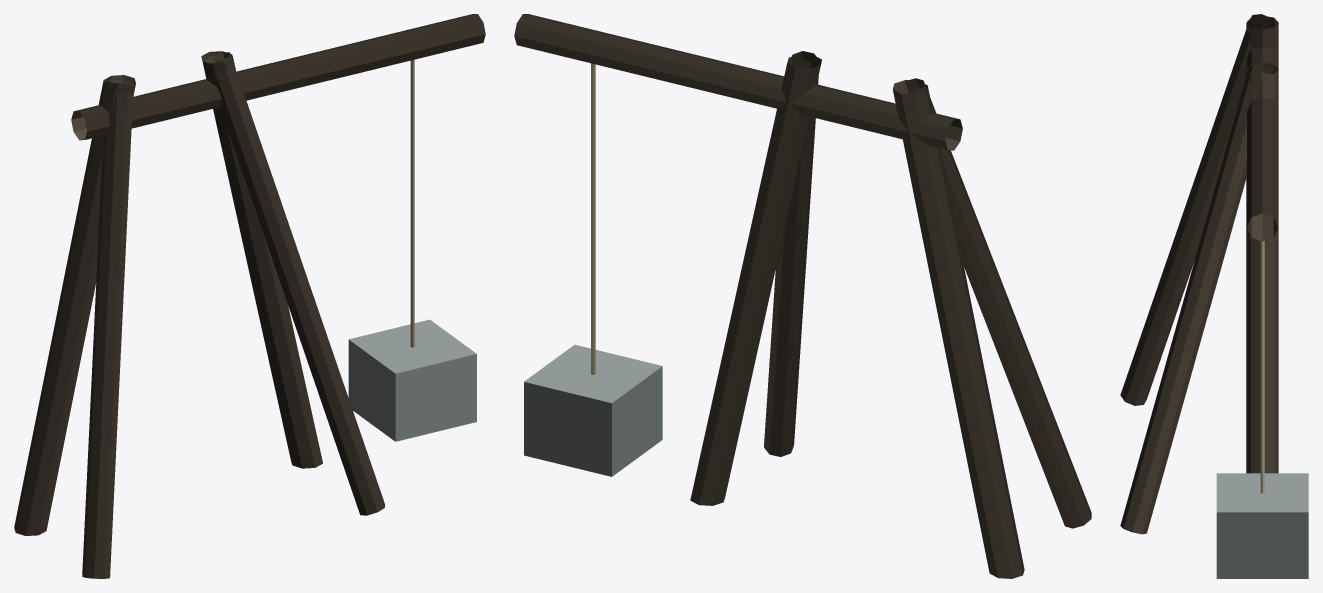
The picture shows the model from 3 angles, left to right: view 1: azimuth 30°, elevation 25°; view 2: azimuth 150°, elevation 25°; view 3: azimuth 270°, elevation 25°; orthographic projection. The views are drawn at different scales.
Visible parts, largest first — view 1: 77b99d1862d15f2e2a206b73ae7090bd5abf9dc5af4cacdca94cbd81c98c; view 2: 77b99d1862d15f2e2a206b73ae7090bd5abf9dc5af4cacdca94cbd81c98c; view 3: 77b99d1862d15f2e2a206b73ae7090bd5abf9dc5af4cacdca94cbd81c98c.
Boxes of the visible parts, x1,y1,x2,y2 form: 77b99d1862d15f2e2a206b73ae7090bd5abf9dc5af4cacdca94cbd81c98c: (14, 14, 485, 578); 77b99d1862d15f2e2a206b73ae7090bd5abf9dc5af4cacdca94cbd81c98c: (514, 14, 1091, 578); 77b99d1862d15f2e2a206b73ae7090bd5abf9dc5af4cacdca94cbd81c98c: (1120, 14, 1308, 578).
Bounding box in the file's own units: 5.68 × 5.1 × 2.04.
3 materials, 1 textured.
